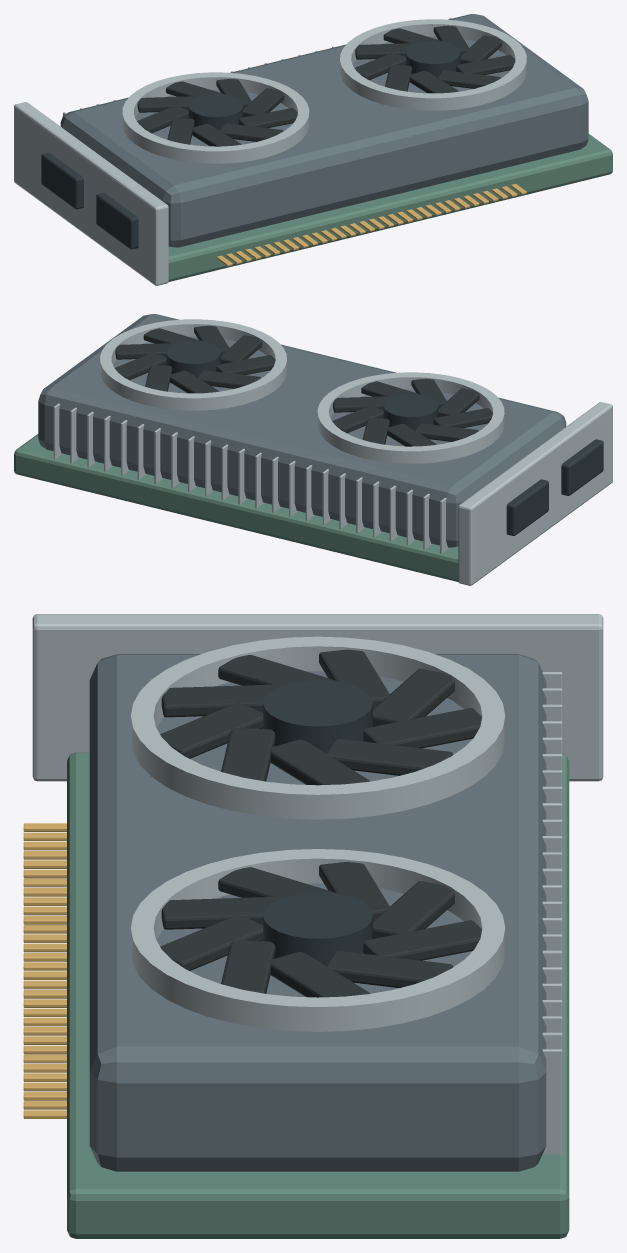
File: loot_gpu.glb
The picture shows the model from 3 angles, top to bottom: view 1: azimuth 30°, elevation 25°; view 2: azimuth 150°, elevation 25°; view 3: azimuth 270°, elevation 25°; orthographic projection. The views are drawn at different scales.
Parts seen in each view (by area): view 1: loot_gpu; view 2: loot_gpu; view 3: loot_gpu.
Part boxes in pixels (x1,y1,x2,y2): loot_gpu: (14, 14, 612, 285); loot_gpu: (14, 314, 612, 585); loot_gpu: (23, 614, 603, 1238).
Size of the model in its own units: 0.2405 by 0.051 by 0.127.
